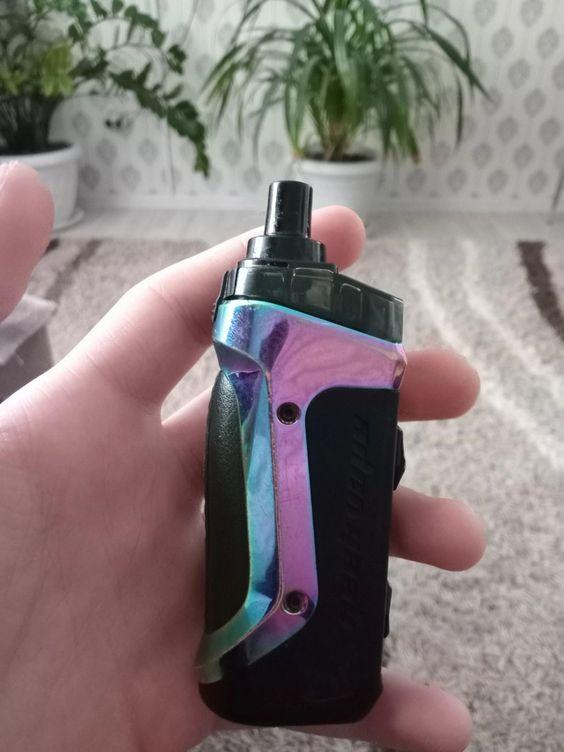Vape: (199, 181, 405, 726)
